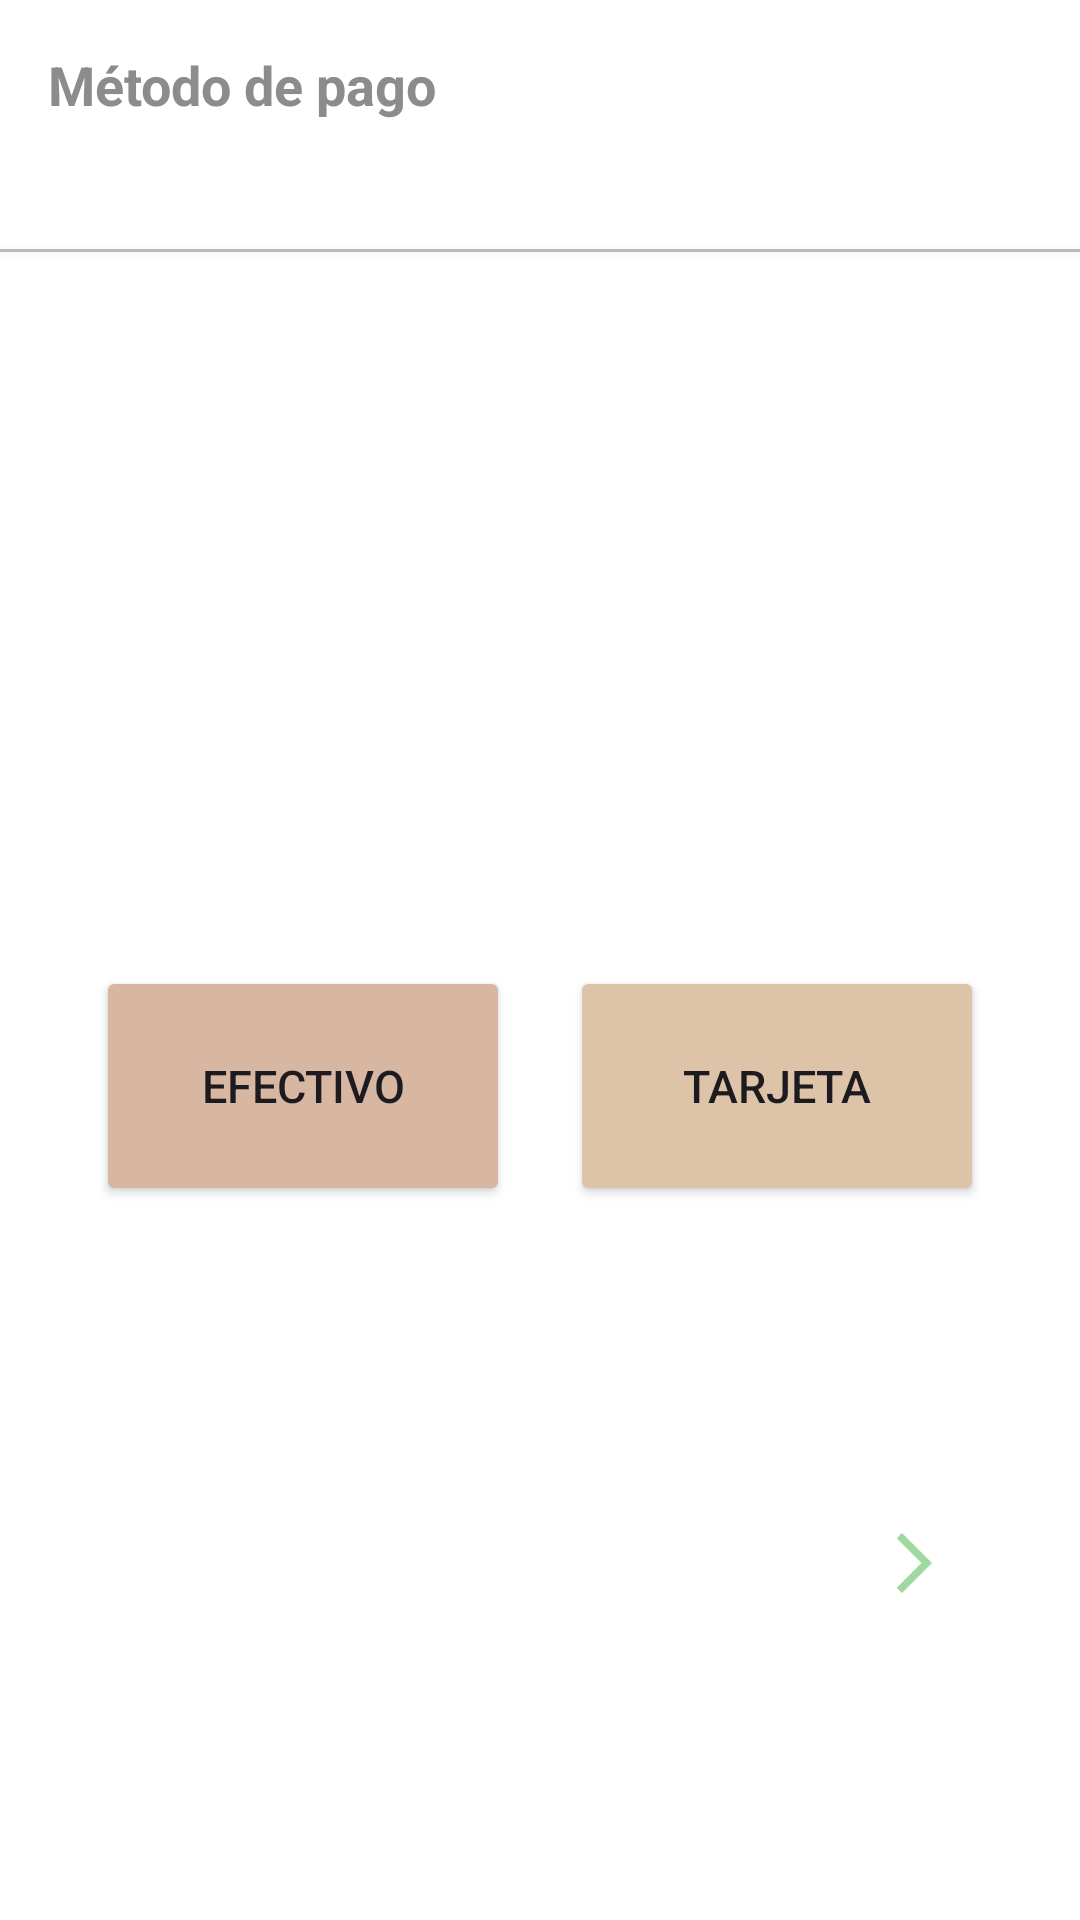

Locate icon controls on the screen. Image size 1080*1920, boxes as (x1, y1, x2, y2).
arrow: (897, 1533, 932, 1593)
